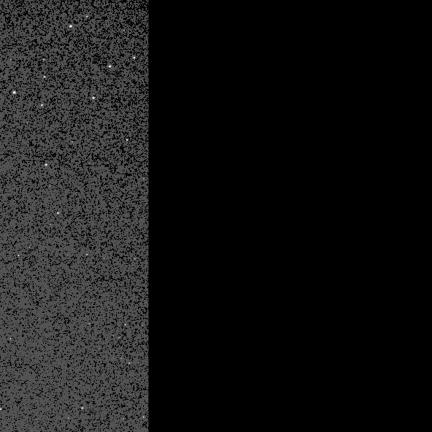blob: (13, 91, 17, 95), (92, 97, 96, 100), (109, 65, 112, 68), (70, 25, 73, 28), (133, 57, 136, 60), (57, 212, 60, 215), (44, 76, 46, 79), (41, 105, 44, 107), (45, 164, 48, 166), (81, 408, 84, 410), (127, 139, 129, 141)
